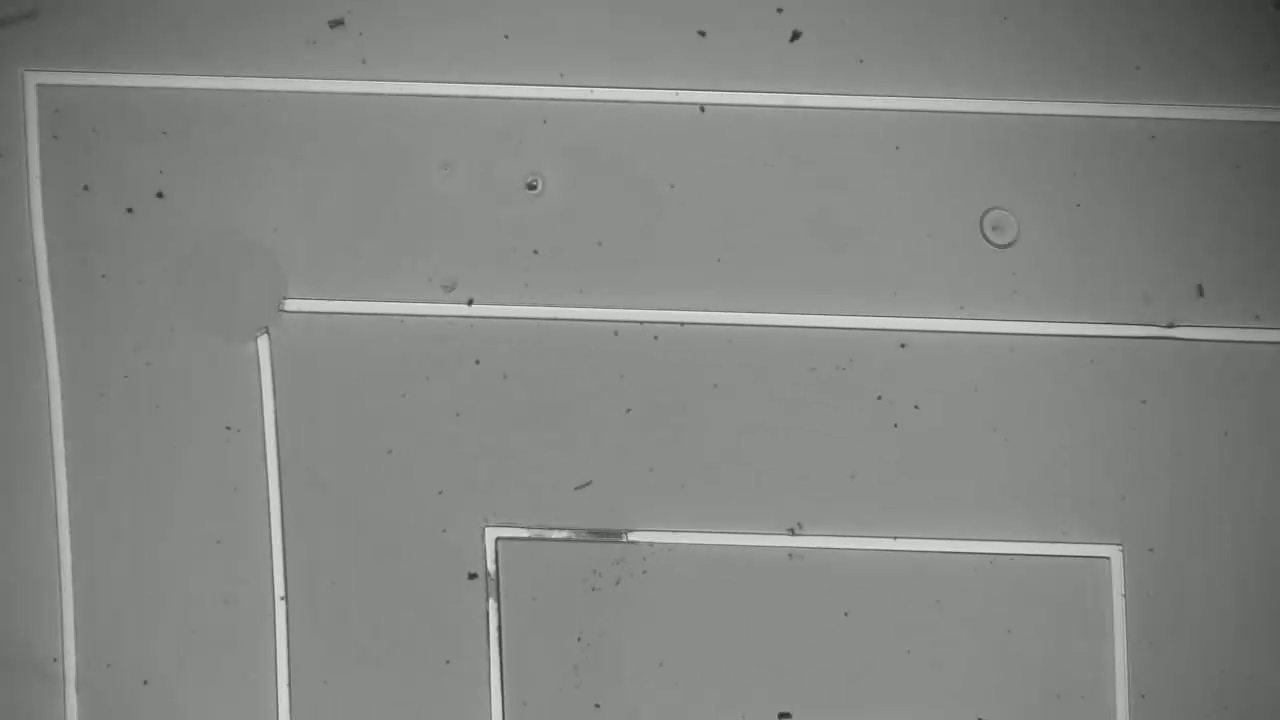gray_line: (557, 516, 652, 557), (473, 555, 518, 616)
open: (231, 275, 314, 365)
